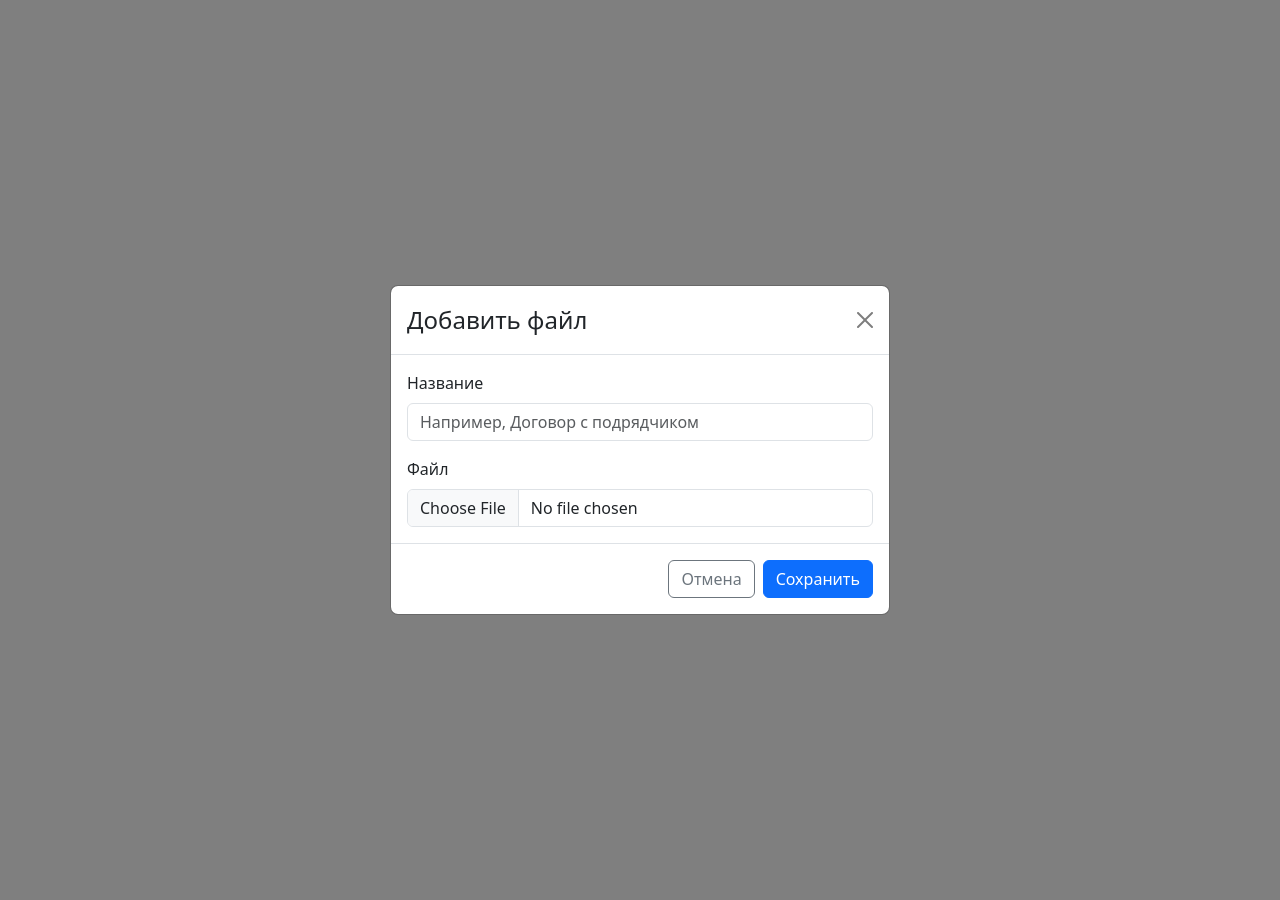
Test: UploadFileModal › refuses to send a form with no title and no file
The width and height of the screenshot is (1280, 900).
Click the button "Сохранить" at (818, 579), box top-left (763, 560), bottom-right (873, 598)
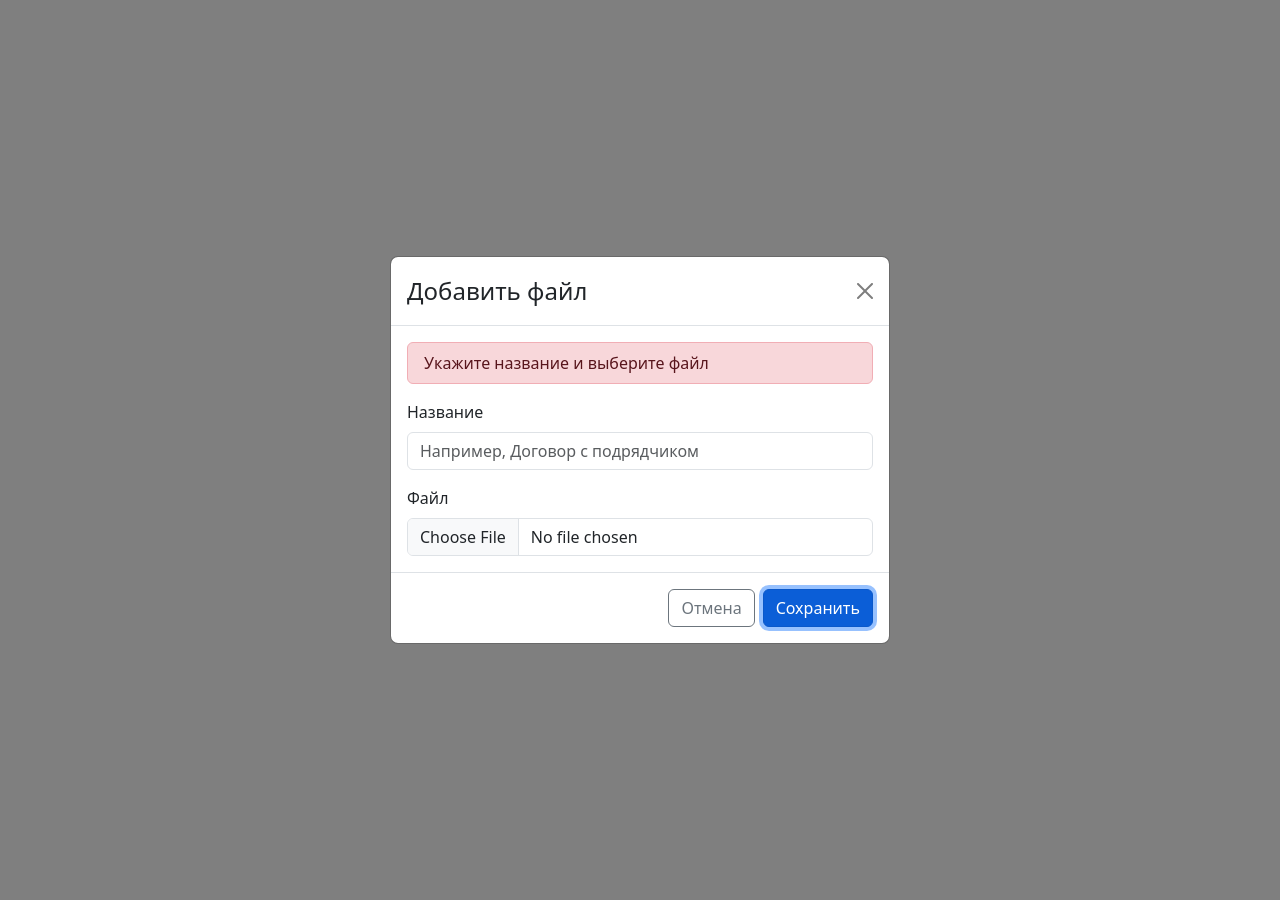
Result: the text "Укажите название и выберите файл" is shown at top-left (407, 342), bottom-right (873, 384)
